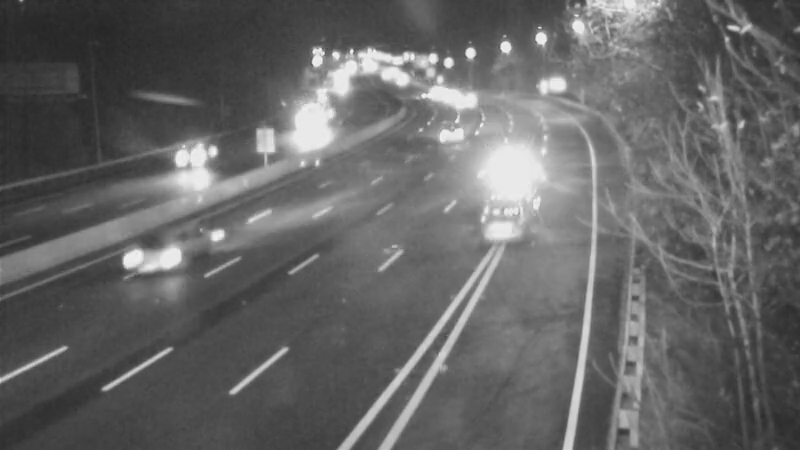vehicle: (471, 149, 551, 229), (112, 216, 192, 296), (161, 118, 241, 198), (398, 73, 448, 123), (440, 74, 490, 124), (422, 111, 472, 161), (289, 94, 339, 144)
